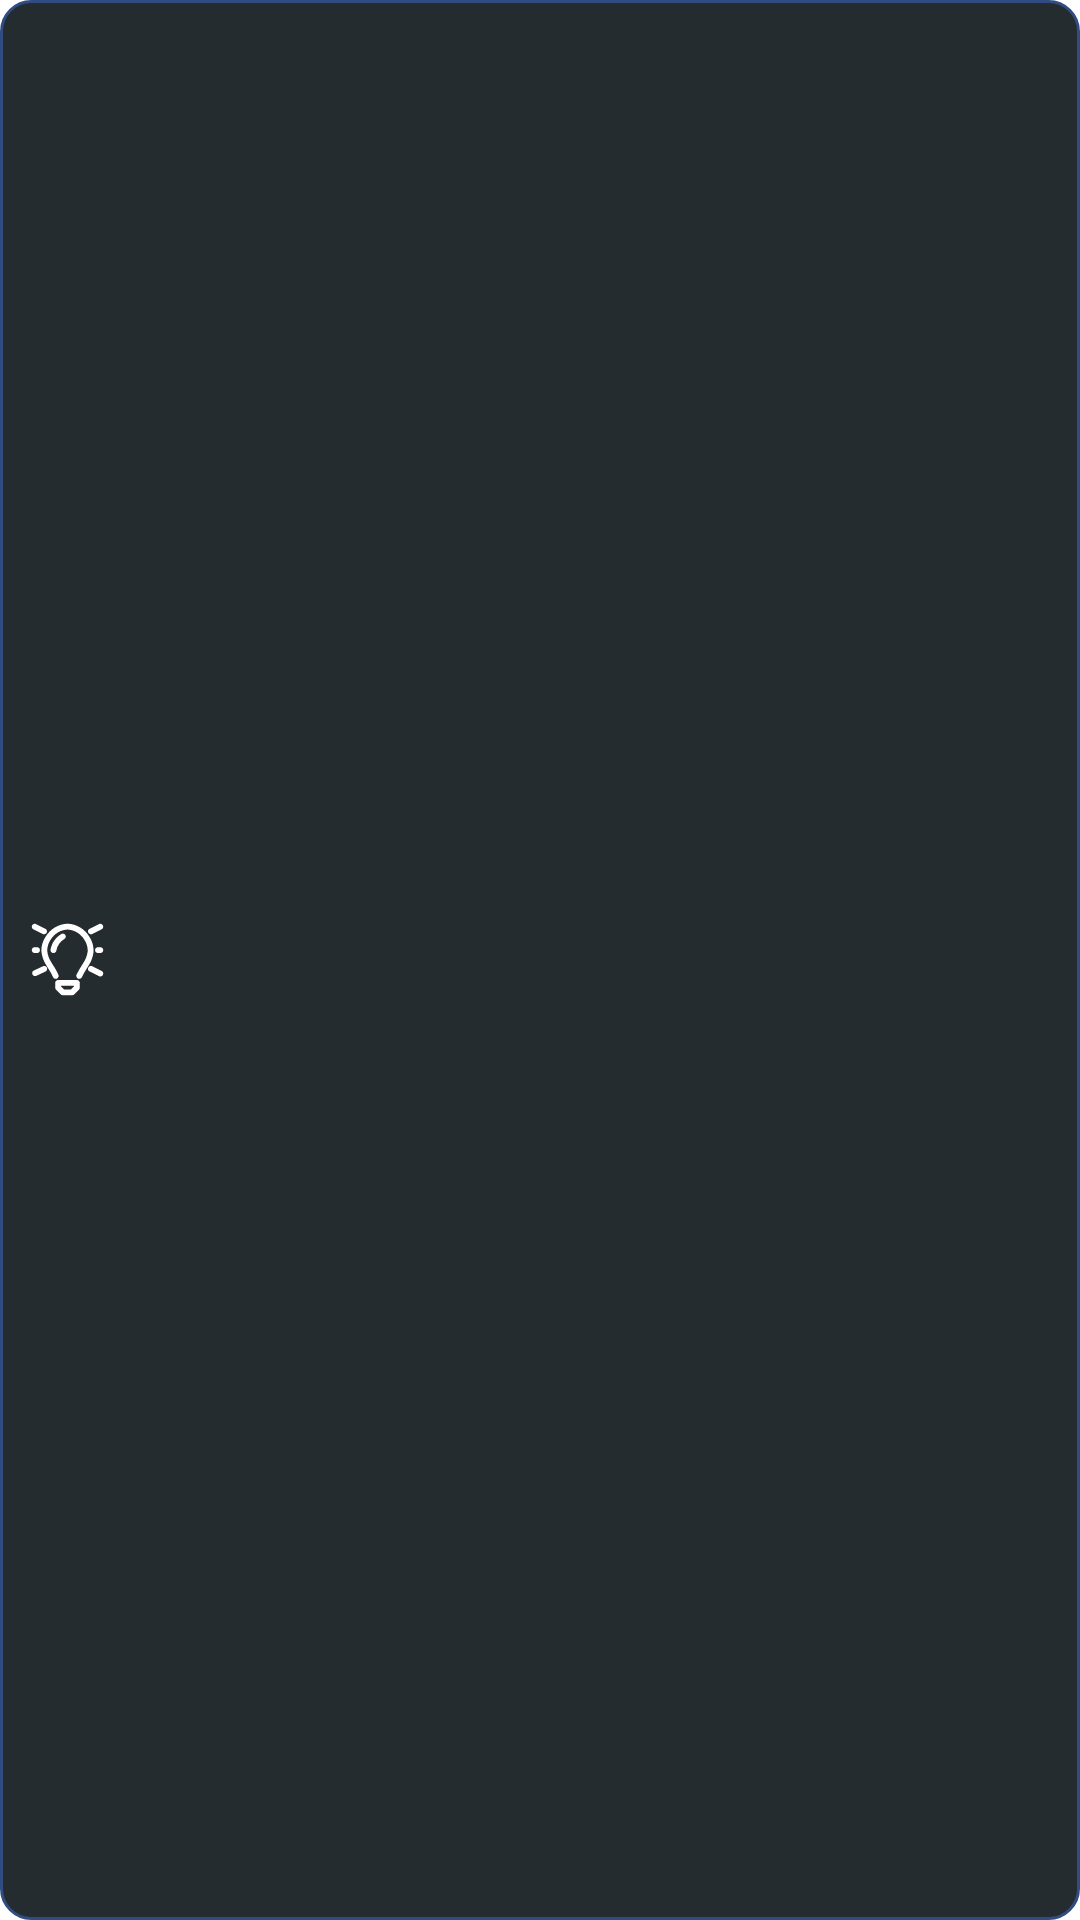

Named icons in this screenshot (1080 x 1920) and their centers, point (x, y):
lightbulb: point (67, 959)
